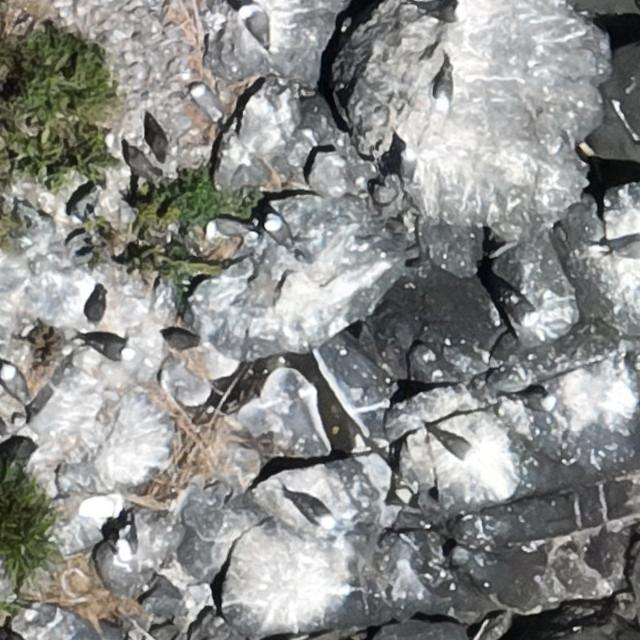umineko: (495, 285, 538, 328), (291, 492, 334, 529), (112, 516, 138, 562), (434, 60, 454, 114), (192, 86, 218, 118), (88, 338, 129, 358), (245, 10, 267, 45), (440, 437, 472, 461), (208, 220, 248, 238), (266, 218, 289, 245), (522, 394, 556, 412), (2, 366, 23, 394), (401, 147, 415, 182)
